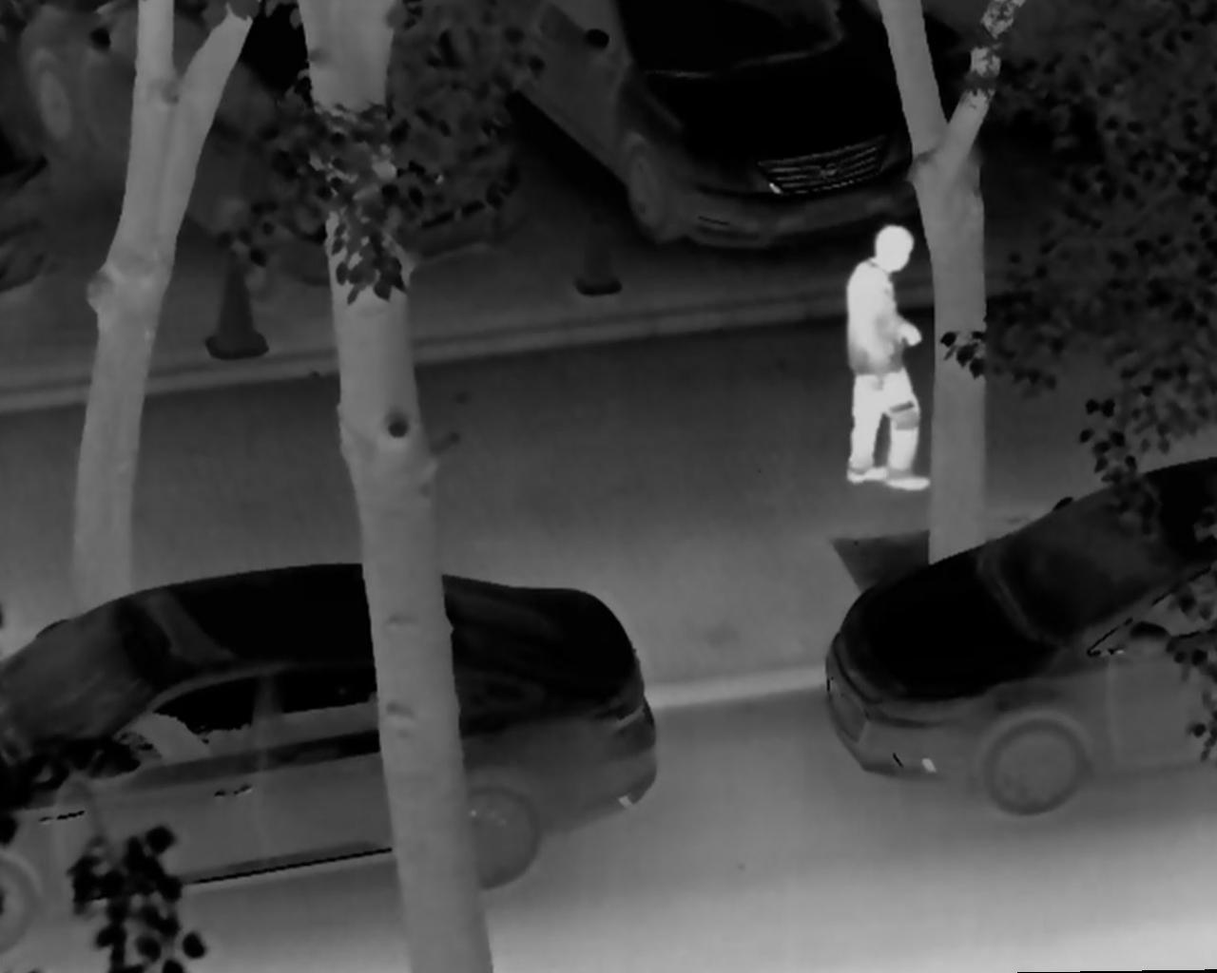person: (837, 221, 932, 491)
